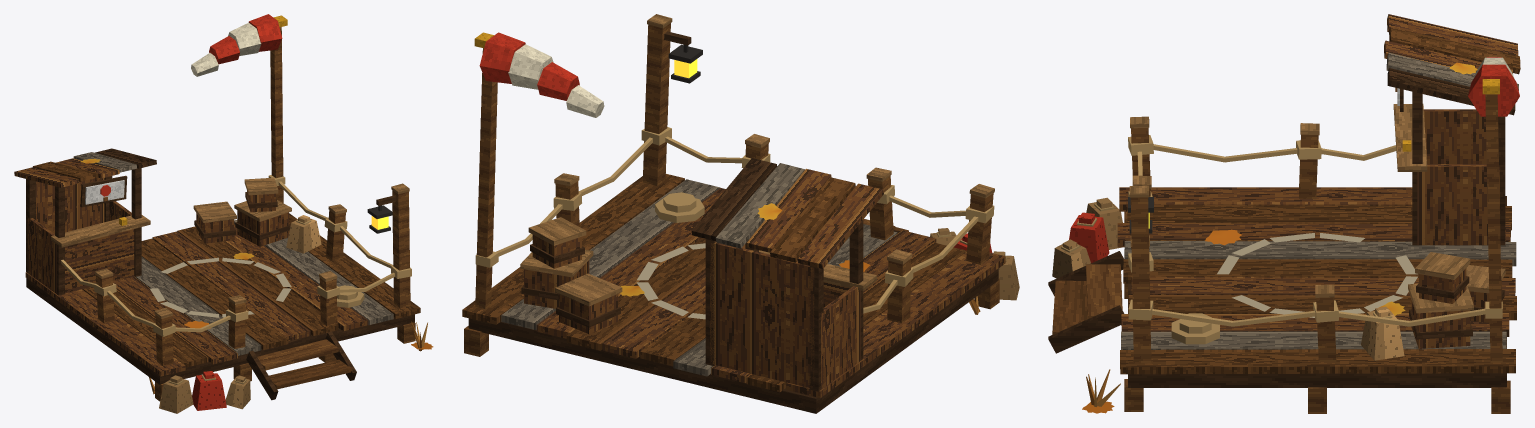
File: balloon_dock.glb
3 renders of one model, left to right at view 1: azimuth 30°, elevation 25°; view 2: azimuth 150°, elevation 25°; view 3: azimuth 270°, elevation 25°, orthographic. The views are drawn at different scales.
Visible parts, largest first — view 1: balloon_dock, sway_windsock; view 2: balloon_dock, sway_windsock; view 3: balloon_dock, sway_windsock.
Part boxes in pixels (box(x1,y1,x2,y2)): balloon_dock: box(14, 15, 433, 413); sway_windsock: box(191, 14, 282, 76); balloon_dock: box(462, 14, 1019, 413); sway_windsock: box(479, 32, 604, 117); balloon_dock: box(1048, 14, 1520, 413); sway_windsock: box(1468, 57, 1519, 116).
Size of the model in its own units: 5.06 by 4.18 by 5.43.
26 materials, 15 textured.
